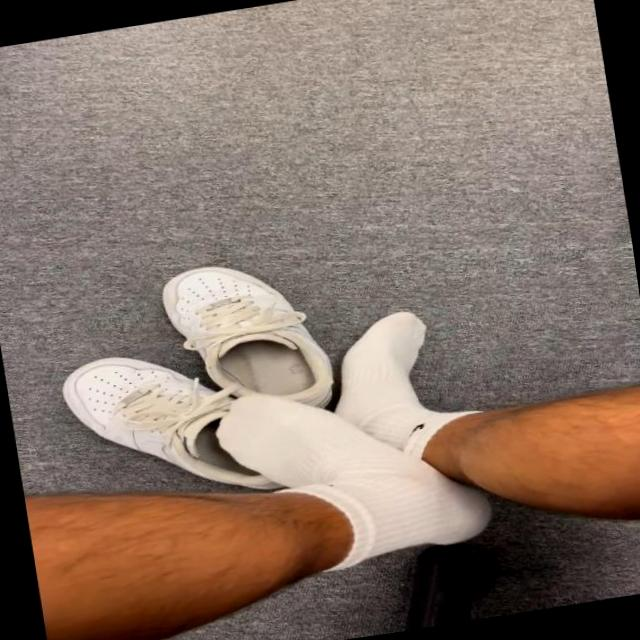nike_original_airforce: (55, 337, 275, 514), (146, 246, 339, 438)
